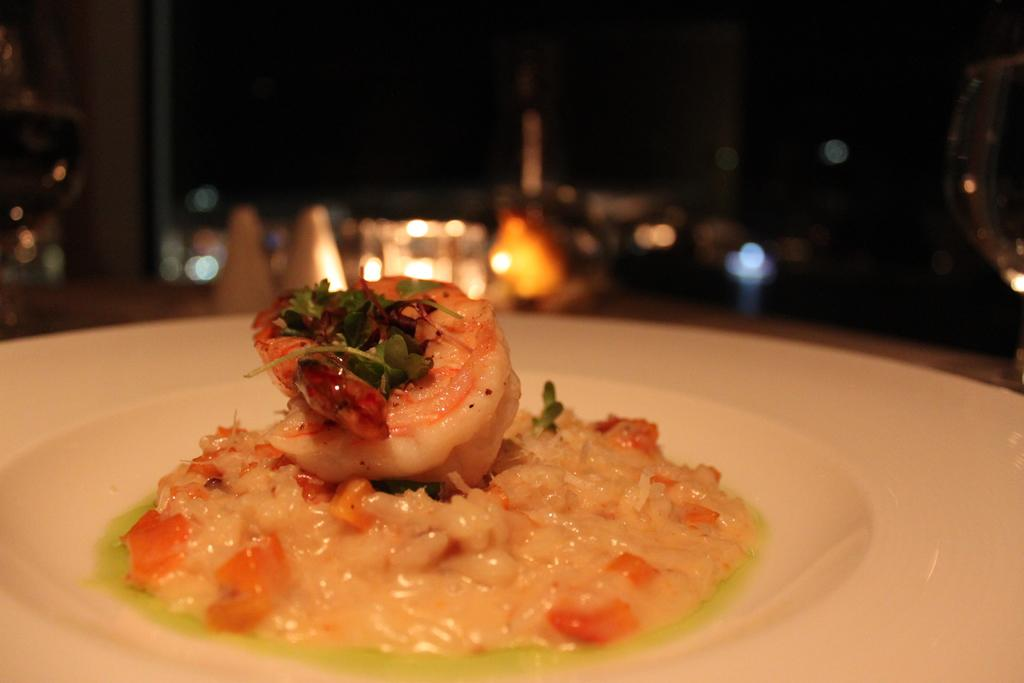Shrimp: (246, 270, 527, 484)
